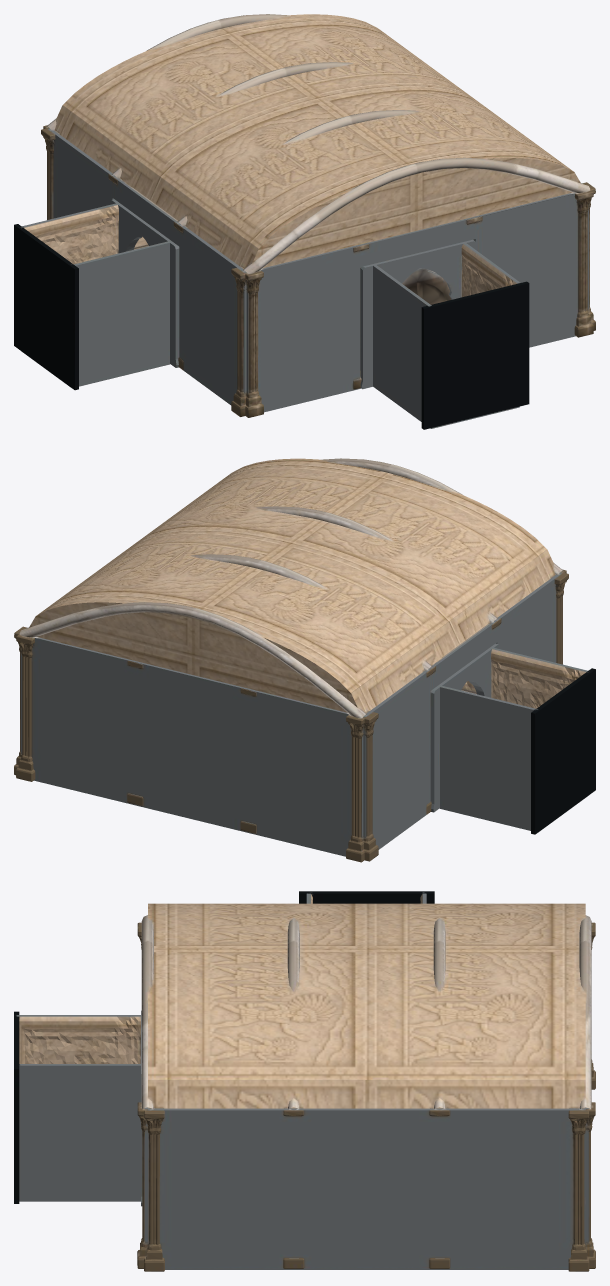
File: room.glb
3 views of the same model, one above another, from view 1: azimuth 30°, elevation 25°; view 2: azimuth 150°, elevation 25°; view 3: azimuth 270°, elevation 25° (orthographic). The views are drawn at different scales.
Visible parts, largest first — view 1: CRYPT-ANTEROOM; view 2: CRYPT-ANTEROOM; view 3: CRYPT-ANTEROOM.
Part boxes in pixels (x1=…): CRYPT-ANTEROOM: x1=14, y1=14, x2=595, y2=429; CRYPT-ANTEROOM: x1=14, y1=458, x2=595, y2=862; CRYPT-ANTEROOM: x1=14, y1=891, x2=595, y2=1271.
Size of the model in its own units: 13.3 by 5.95 by 13.3.
Materials: 1 (1 with a texture image).
